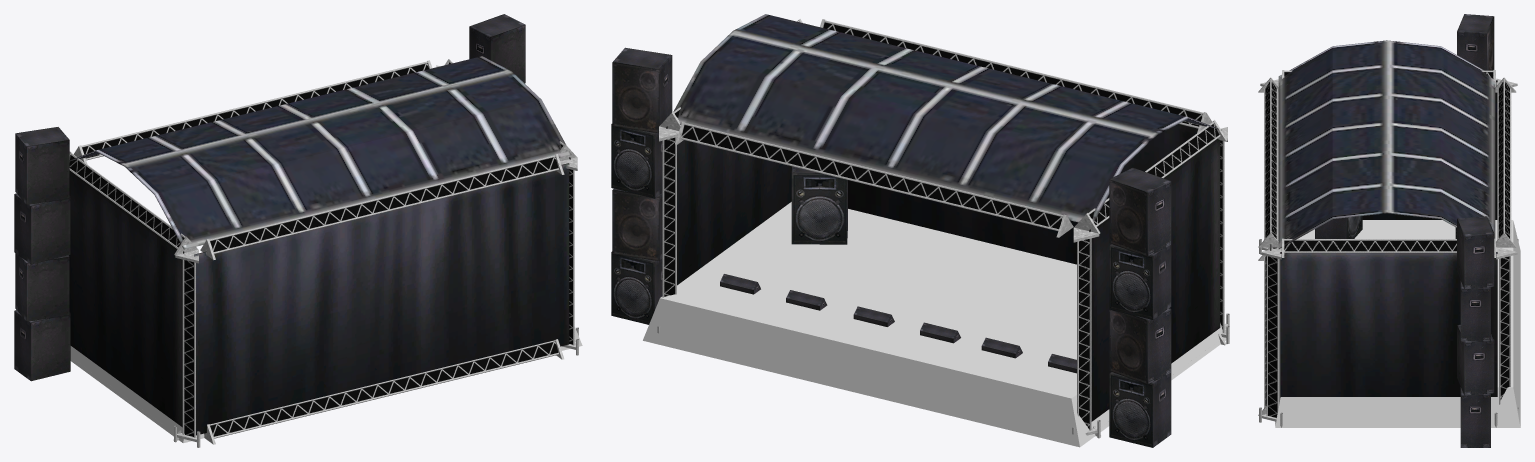
The model's file is festivalstage.FBX.
3 renders of one model, left to right at view 1: azimuth 30°, elevation 25°; view 2: azimuth 150°, elevation 25°; view 3: azimuth 270°, elevation 25°, orthographic. The views are drawn at different scales.
Parts seen in each view (by area): view 1: object_festivalstage, collission_object_festivalstage; view 2: object_festivalstage, collission_object_festivalstage; view 3: object_festivalstage, collission_object_festivalstage.
Part boxes in pixels (<box>): object_festivalstage: <box>14,14,578,447</box>; collission_object_festivalstage: <box>70,327,582,443</box>; object_festivalstage: <box>611,14,1229,447</box>; collission_object_festivalstage: <box>643,202,1226,447</box>; object_festivalstage: <box>1258,14,1518,447</box>; collission_object_festivalstage: <box>1275,220,1520,427</box>.
Bounding box in the file's own units: 23.11 × 10.34 × 11.53.
